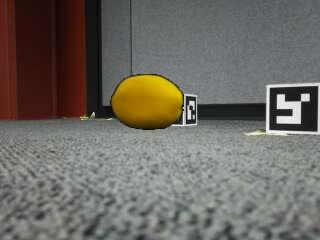lemon: (112, 74, 184, 129)
